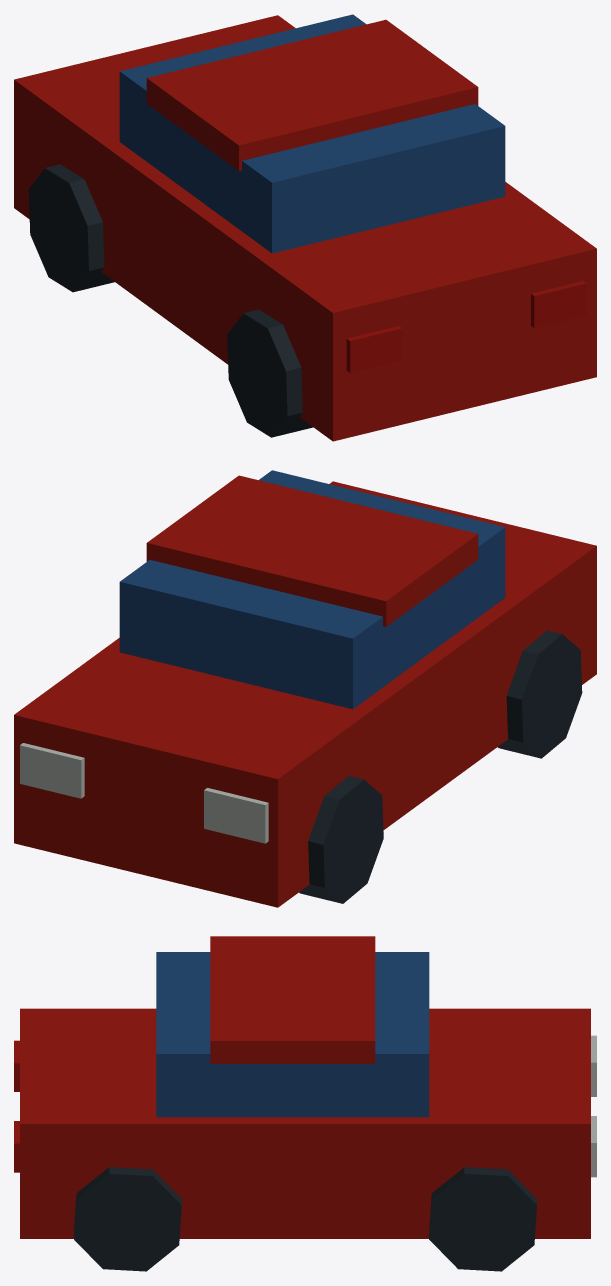
Rendered from car-red.glb.
3 views of the same model, one above another, from view 1: azimuth 30°, elevation 25°; view 2: azimuth 150°, elevation 25°; view 3: azimuth 270°, elevation 25° (orthographic). The views are drawn at different scales.
Visible parts, largest first — view 1: car-red; view 2: car-red; view 3: car-red.
Part boxes in pixels (x1,y1,x2,y2): car-red: (14,14,596,441); car-red: (14,470,596,907); car-red: (14,936,596,1271).
Bounding box in the file's own units: 4.8 × 3.8 × 9.19.
